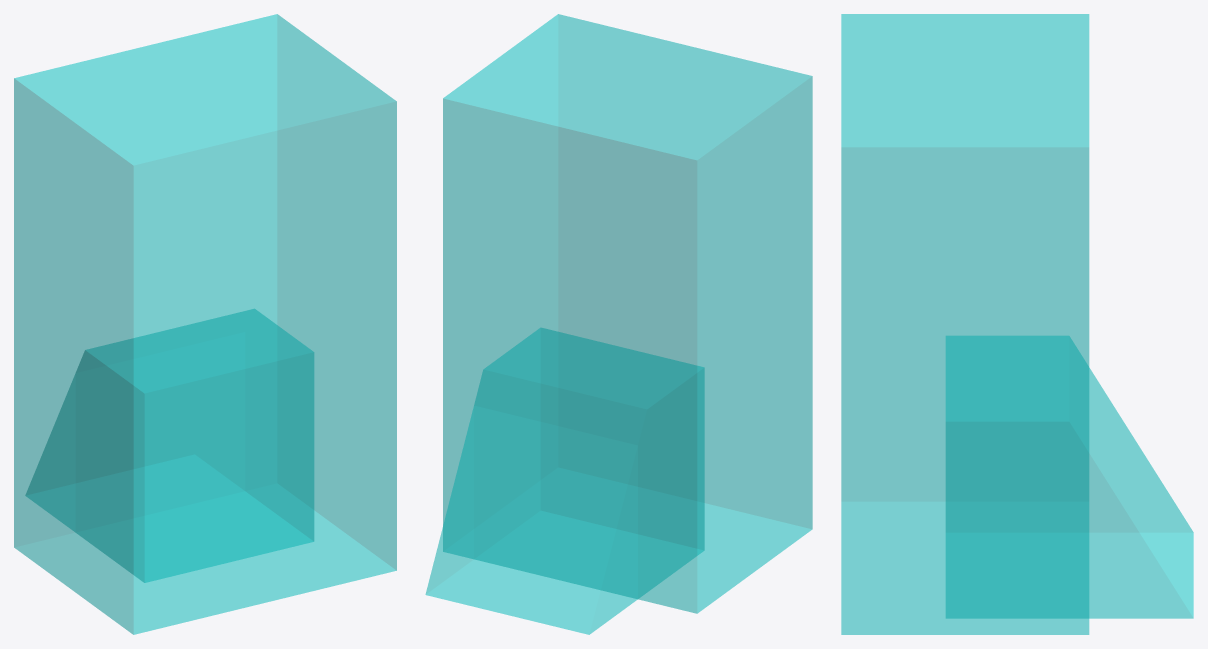
File: SM_Prop_Scaffolding_05_Damaged_01_Collision_01.fbx
The picture shows the model from 3 angles, left to right: view 1: azimuth 30°, elevation 25°; view 2: azimuth 150°, elevation 25°; view 3: azimuth 270°, elevation 25°; orthographic projection. The views are drawn at different scales.
Parts seen in each view (by area): view 1: SM_Prop_Scaffolding_05_Damaged_01_Collision_01; view 2: SM_Prop_Scaffolding_05_Damaged_01_Collision_01; view 3: SM_Prop_Scaffolding_05_Damaged_01_Collision_01.
Boxes of the visible parts, x1,y1,x2,y2 form: SM_Prop_Scaffolding_05_Damaged_01_Collision_01: (14, 14, 396, 634); SM_Prop_Scaffolding_05_Damaged_01_Collision_01: (425, 14, 812, 634); SM_Prop_Scaffolding_05_Damaged_01_Collision_01: (841, 14, 1193, 634).
Size of the model in its own units: 326 by 555 by 364.
